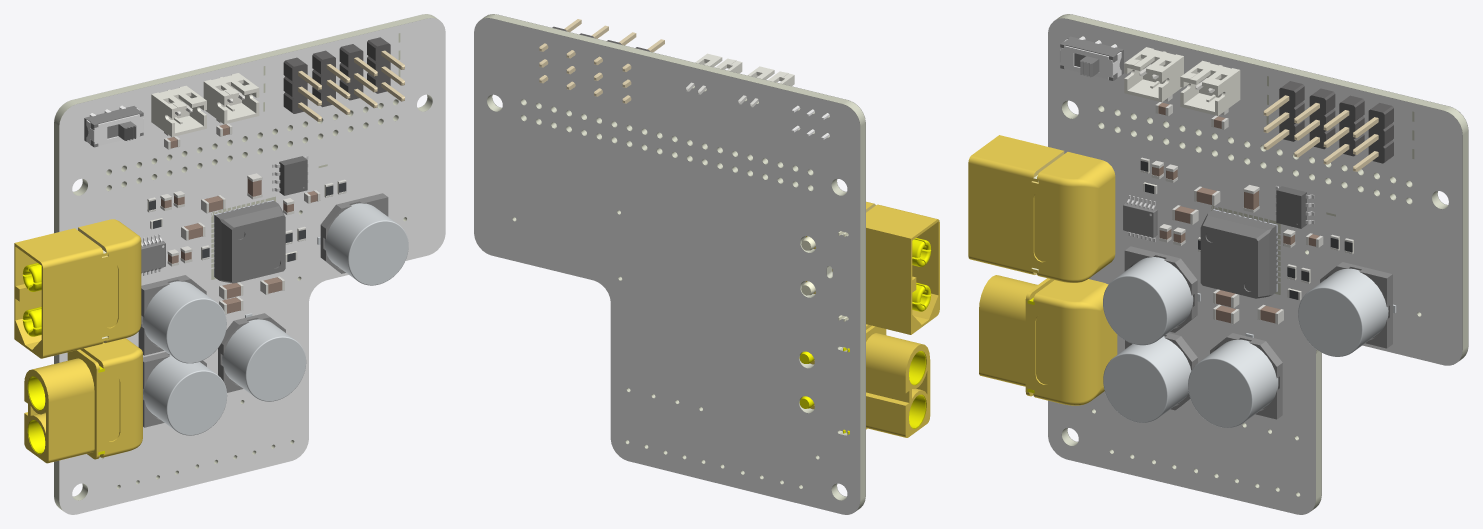
File: Boad_V1.glb
3 views of the same model, side by side, from view 1: azimuth 30°, elevation 25°; view 2: azimuth 150°, elevation 25°; view 3: azimuth 330°, elevation 25° (orthographic). The views are drawn at different scales.
Parts seen in each view (by area): view 1: board_V2; view 2: board_V2; view 3: board_V2.
Boxes of the visible parts, x1,y1,x2,y2 form: board_V2: (14, 14, 445, 514); board_V2: (474, 14, 939, 514); board_V2: (968, 14, 1468, 514).
Size of the model in its own units: 0.0726 by 0.066 by 0.0119.
